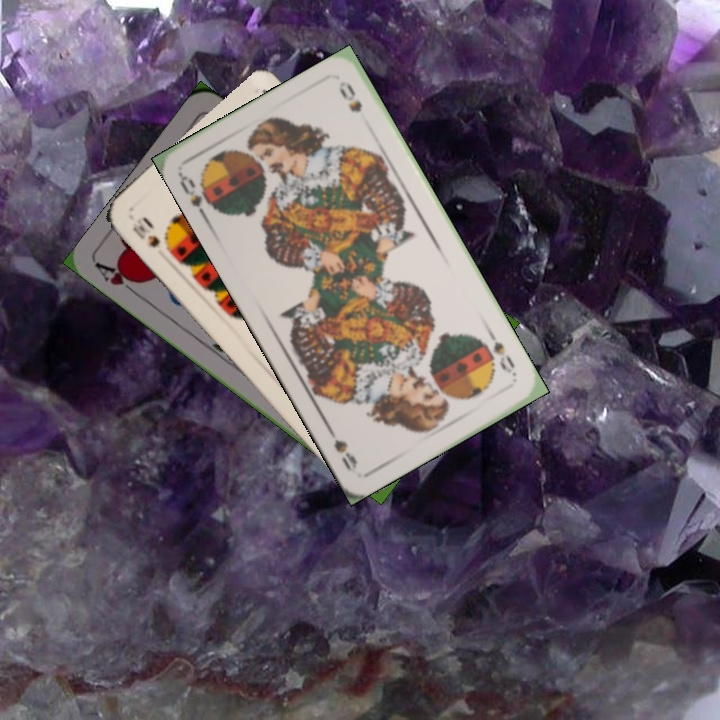HA: (91, 258, 144, 300)
S10: (128, 213, 174, 256)
SO: (175, 170, 222, 224), (480, 327, 520, 379)
